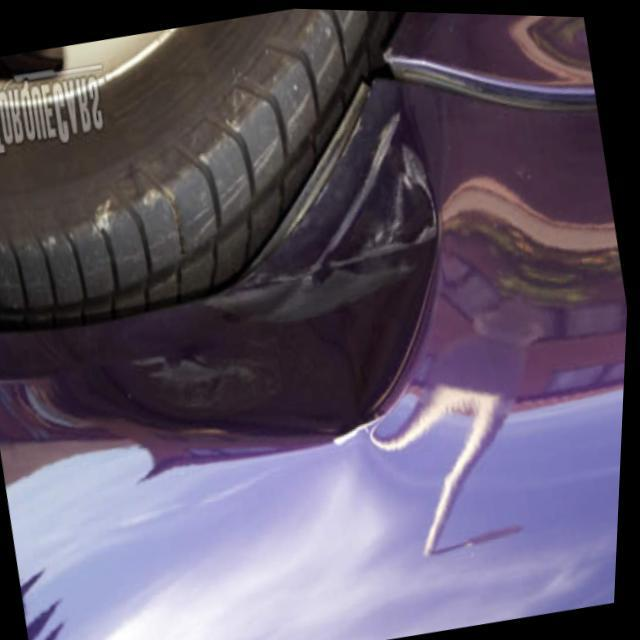Dent: (16, 236, 470, 544)
